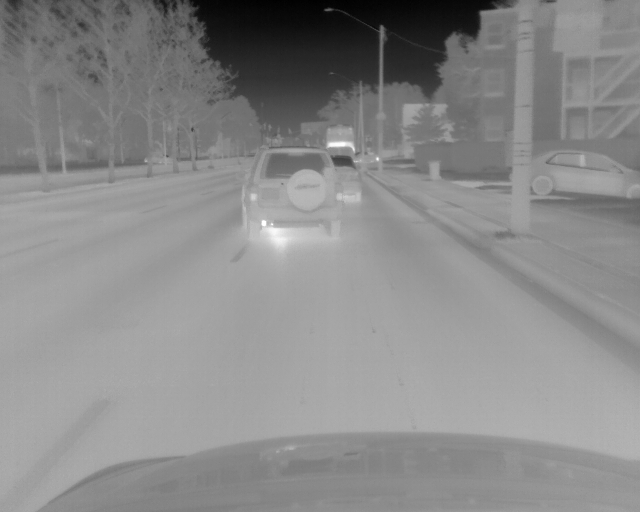car: (241, 145, 336, 240), (517, 149, 640, 206), (327, 153, 362, 202), (325, 126, 358, 159)
